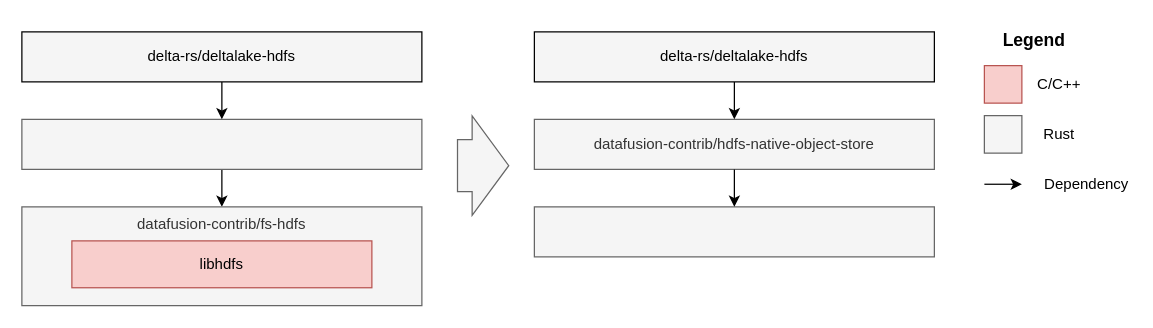
This 1153x328 diagram has some shape labels left out. Each missing label, with the box of its shape:
datafusion-contrib/datafusion-objectstore-hdfs: (21, 118, 422, 169)
Kimahriman/hdfs-native: (533, 206, 934, 257)
